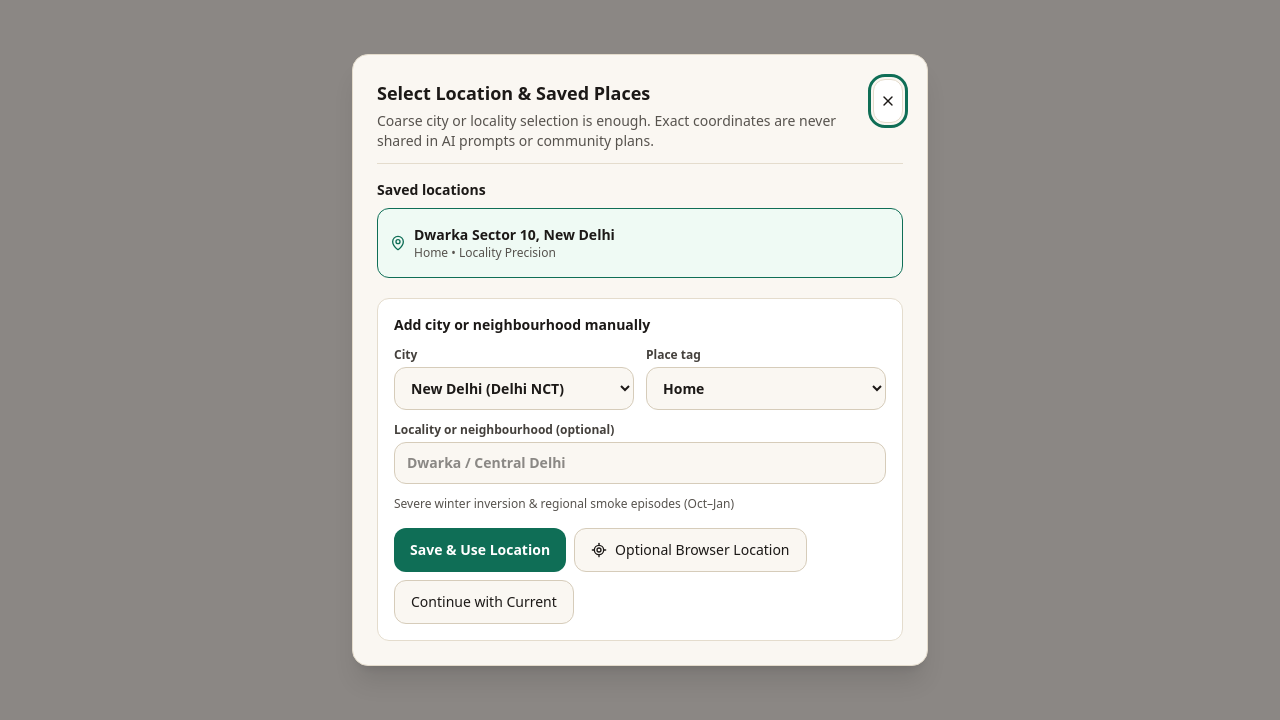
Test: LocationModal & HouseholdModal Workflows › handles browser geolocation grant (~1 km rounding), denial, failure, and missing API
Later steps or results of the test are not shown.
Click the button "Optional Browser Location" at (690, 550), box [574, 528, 806, 572]
(page scrolled)
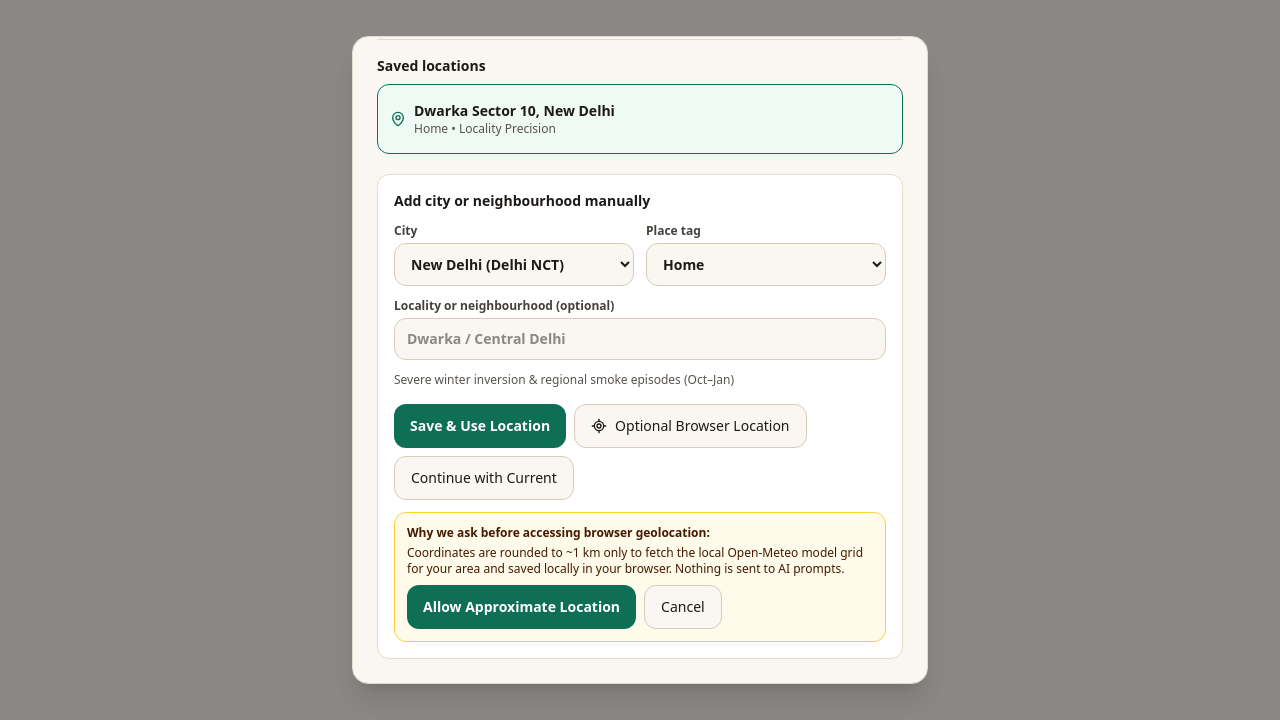
Result: the text "Why we ask before accessing browser geolocation:" is shown at [407, 524, 710, 541]
Click the button "Allow Approximate Location" at (522, 607), box [407, 585, 636, 629]
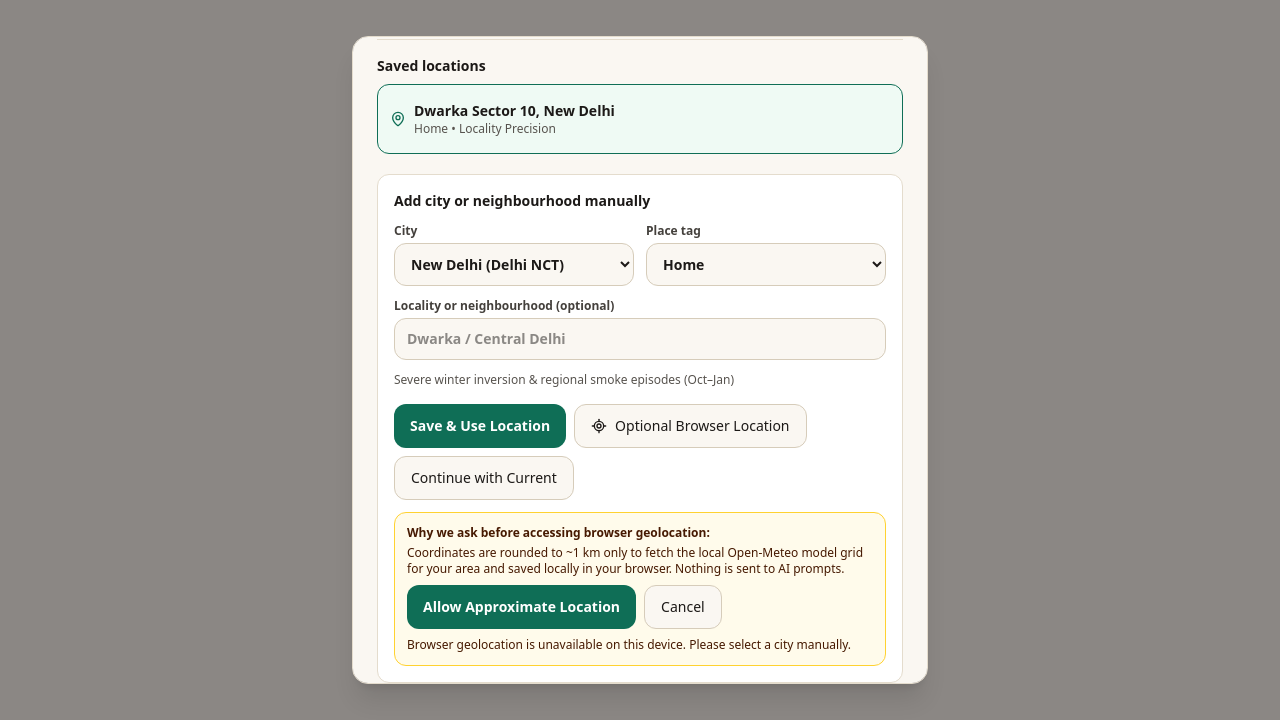
Result: the text "Browser geolocation is unavailable" is shown at [407, 636, 851, 653]
Click the button "Allow Approximate Location" at (522, 607), box [407, 585, 636, 629]
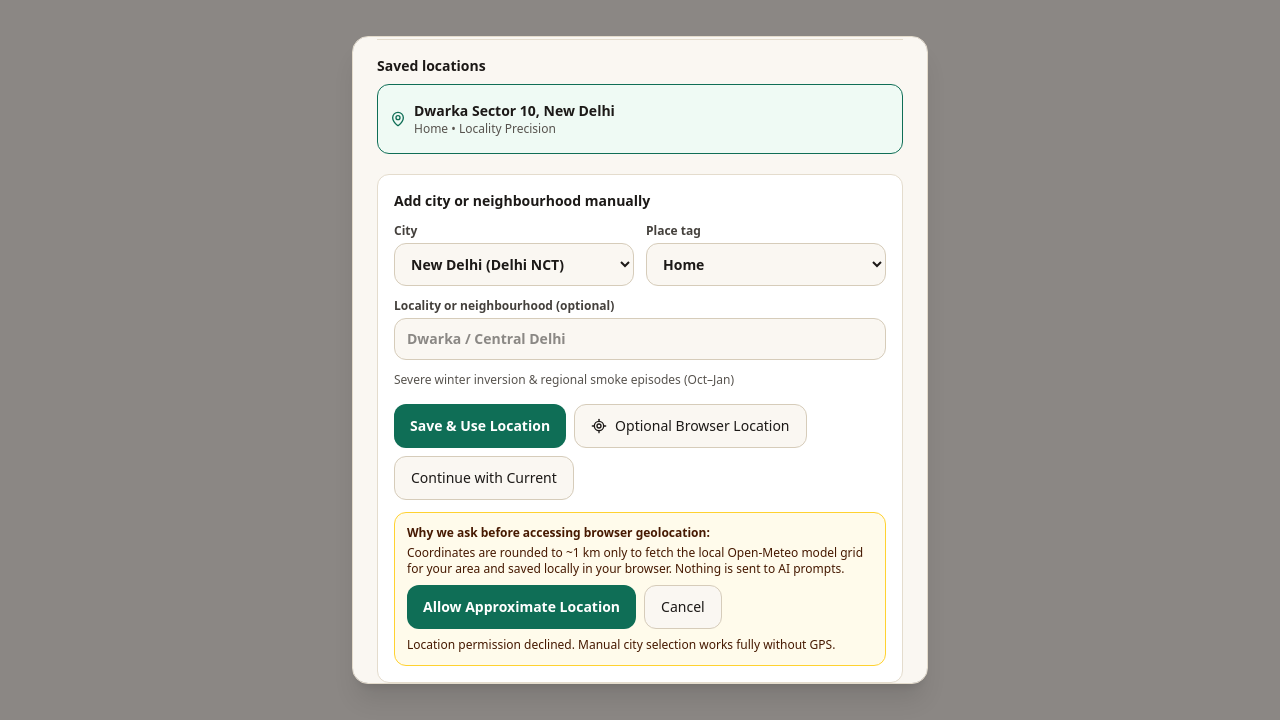
Result: the text "Location permission declined" is shown at [407, 636, 835, 653]
Click the button "Allow Approximate Location" at (522, 607), box [407, 585, 636, 629]
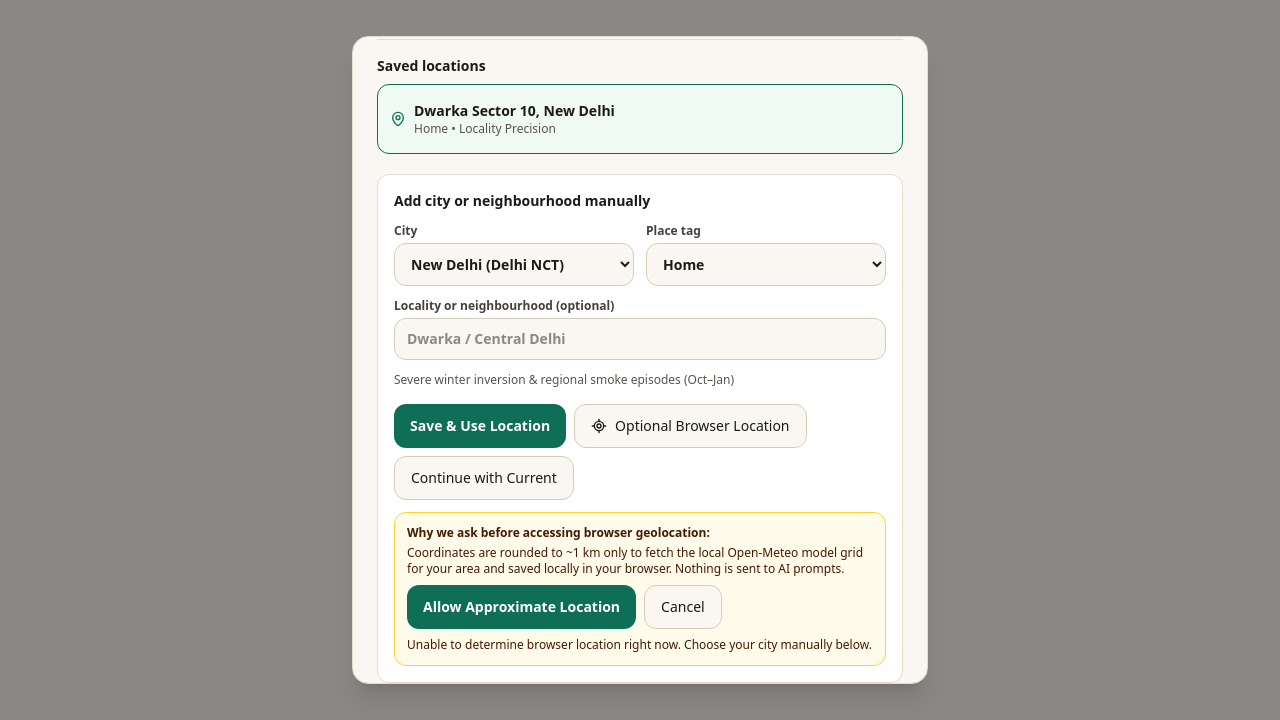
Result: the text "Unable to determine browser location right now" is shown at [407, 636, 872, 653]
